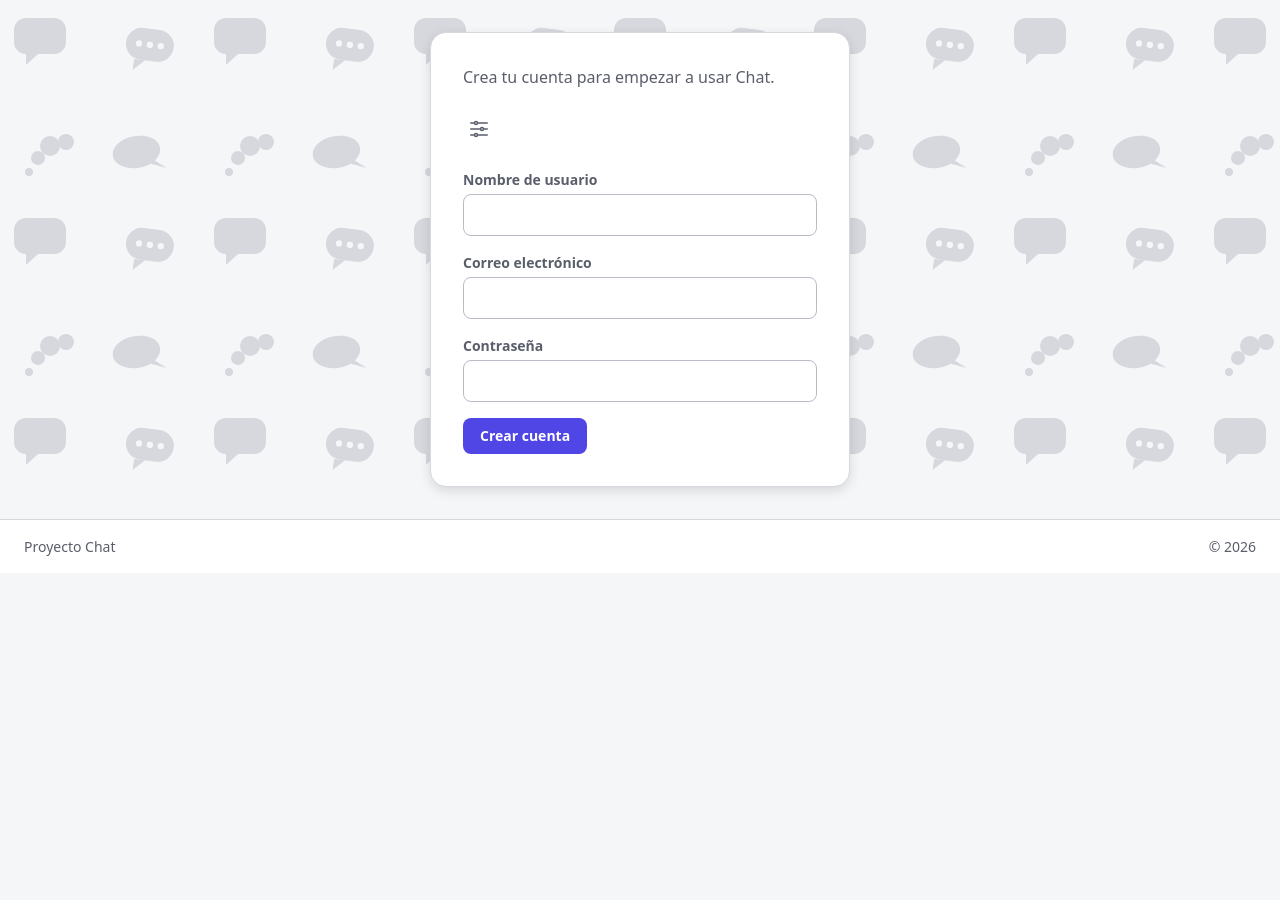
Test: RegistroPage › si el inicio de sesión automático falla, cae a la confirmación con enlace al login
Step 1. Type "mateo29" into the field labelled "Nombre de usuario" → (640, 215), box top-left (463, 194), bottom-right (817, 236)
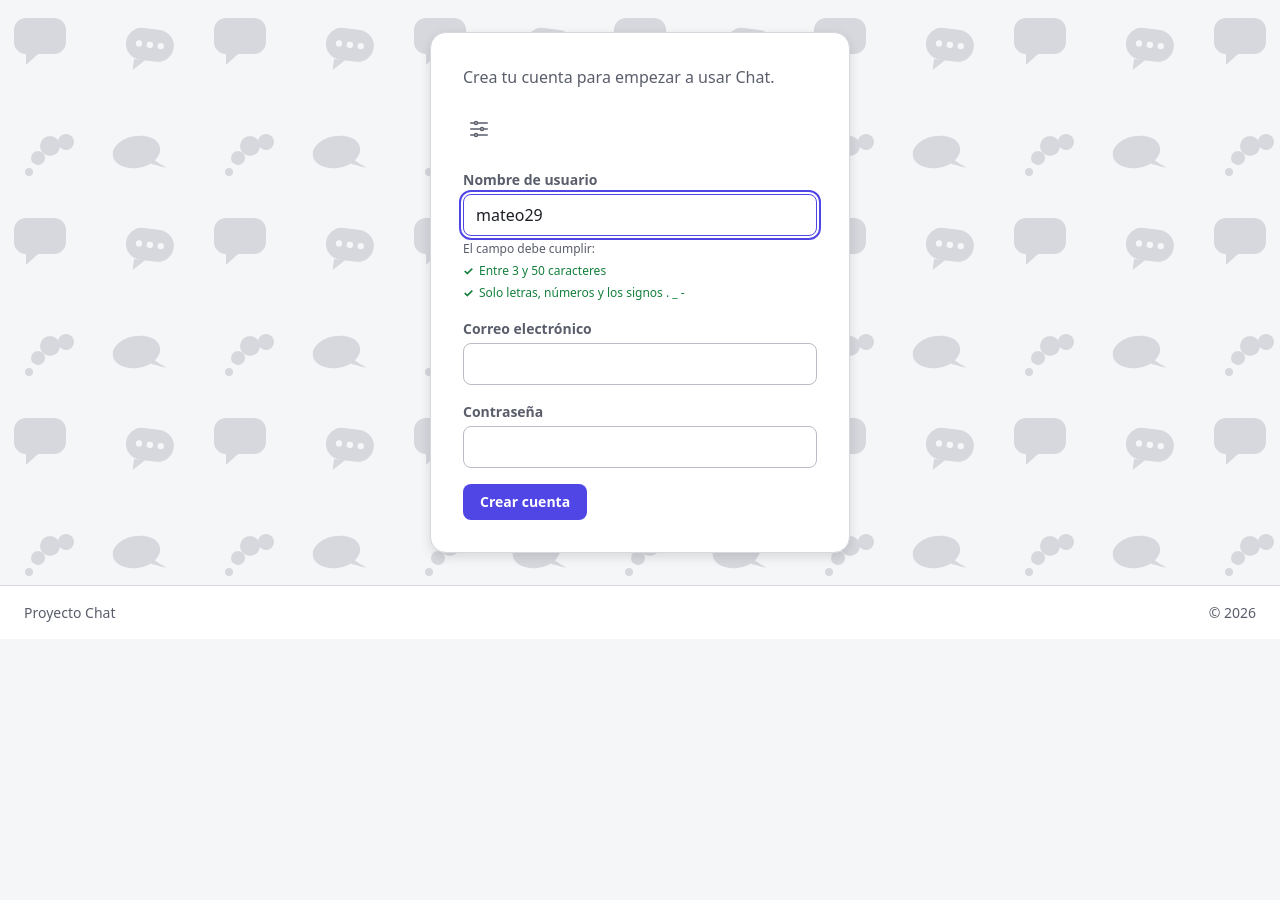
Step 2. Type "mateo@example.com" into the field labelled "Correo electrónico" → (640, 364), box top-left (463, 343), bottom-right (817, 385)
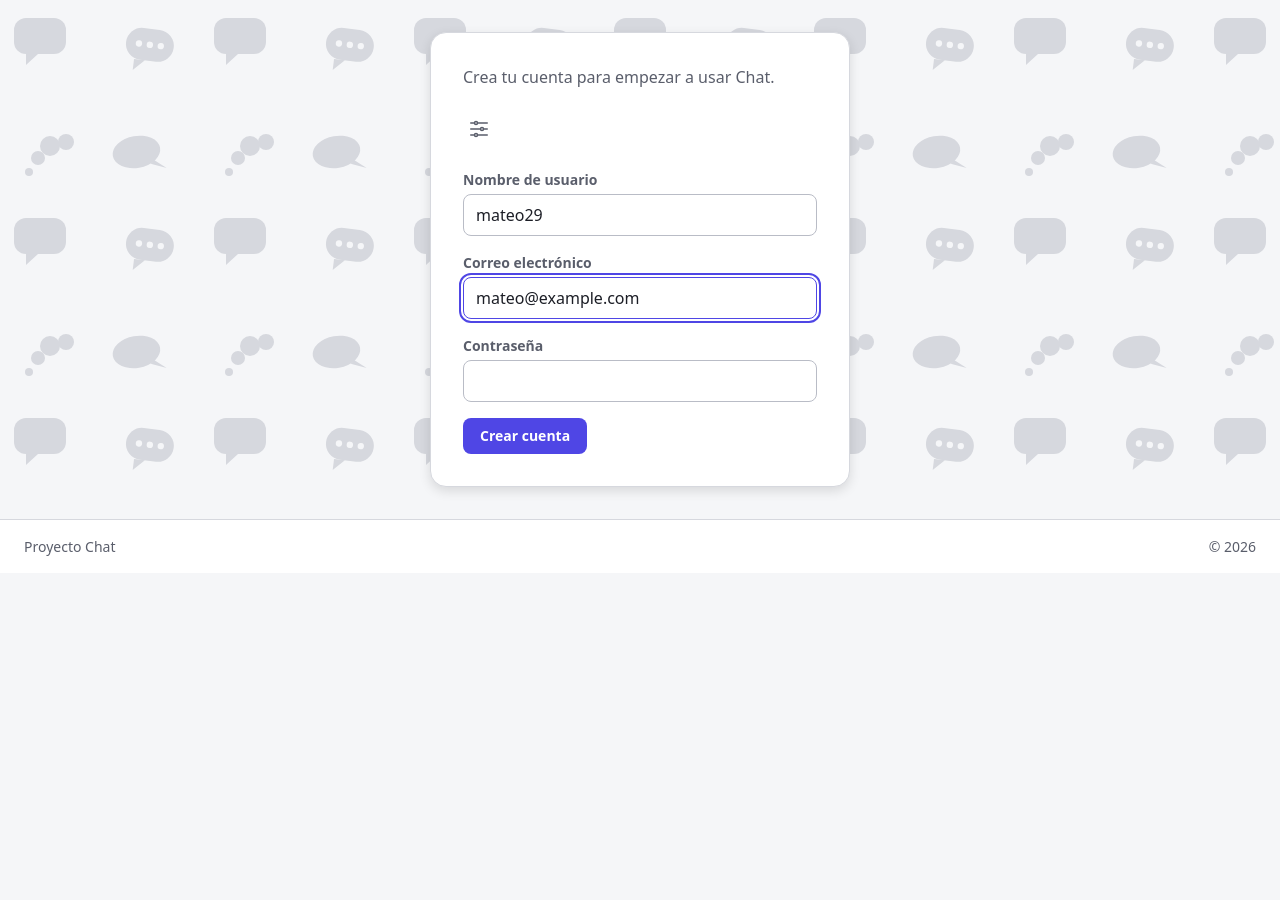
Step 3. Type "Passw0rd!" into the password field labelled "Contraseña" → (640, 381), box top-left (463, 360), bottom-right (817, 402)
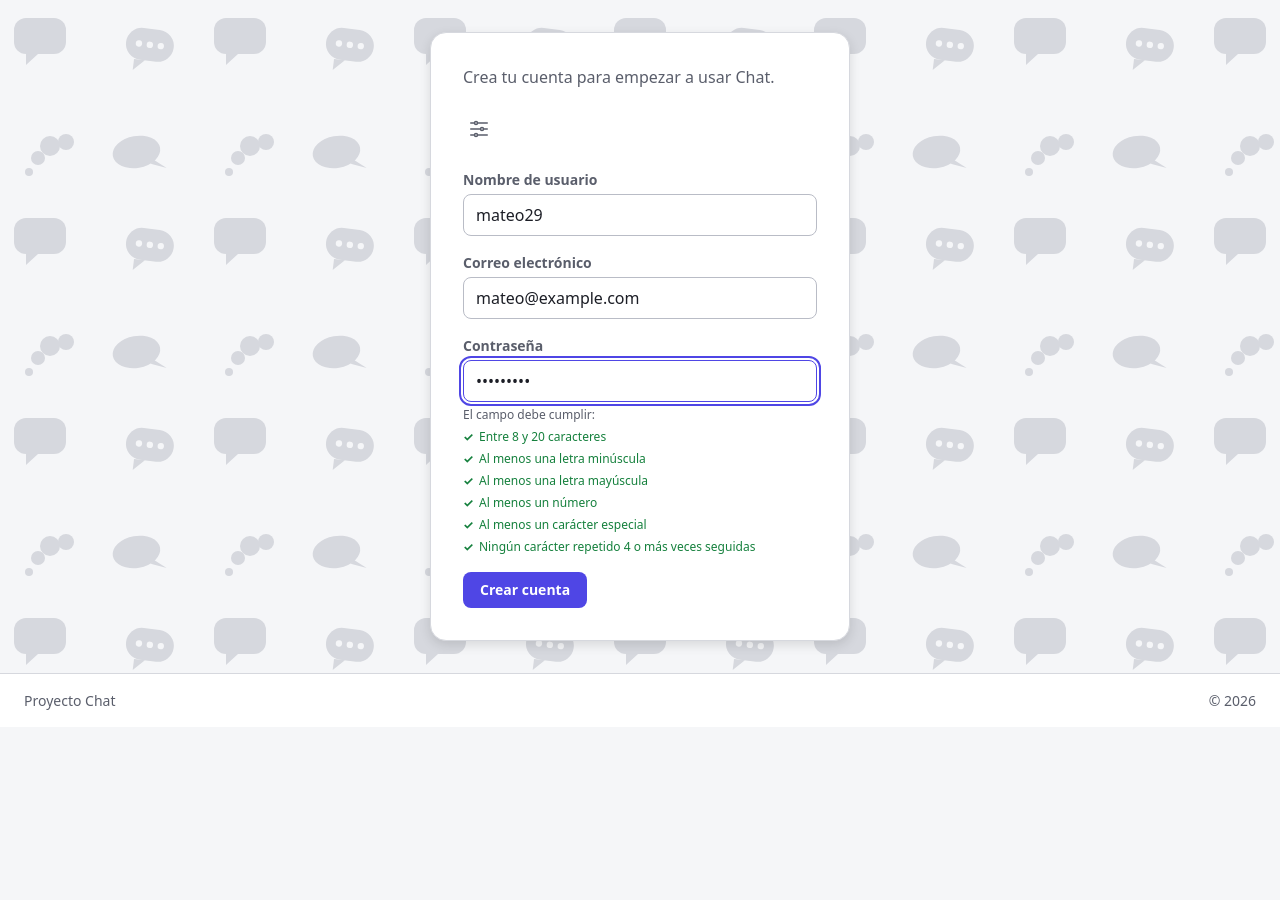
Step 4. Click the button "Crear cuenta" → (525, 590), box top-left (463, 572), bottom-right (587, 608)
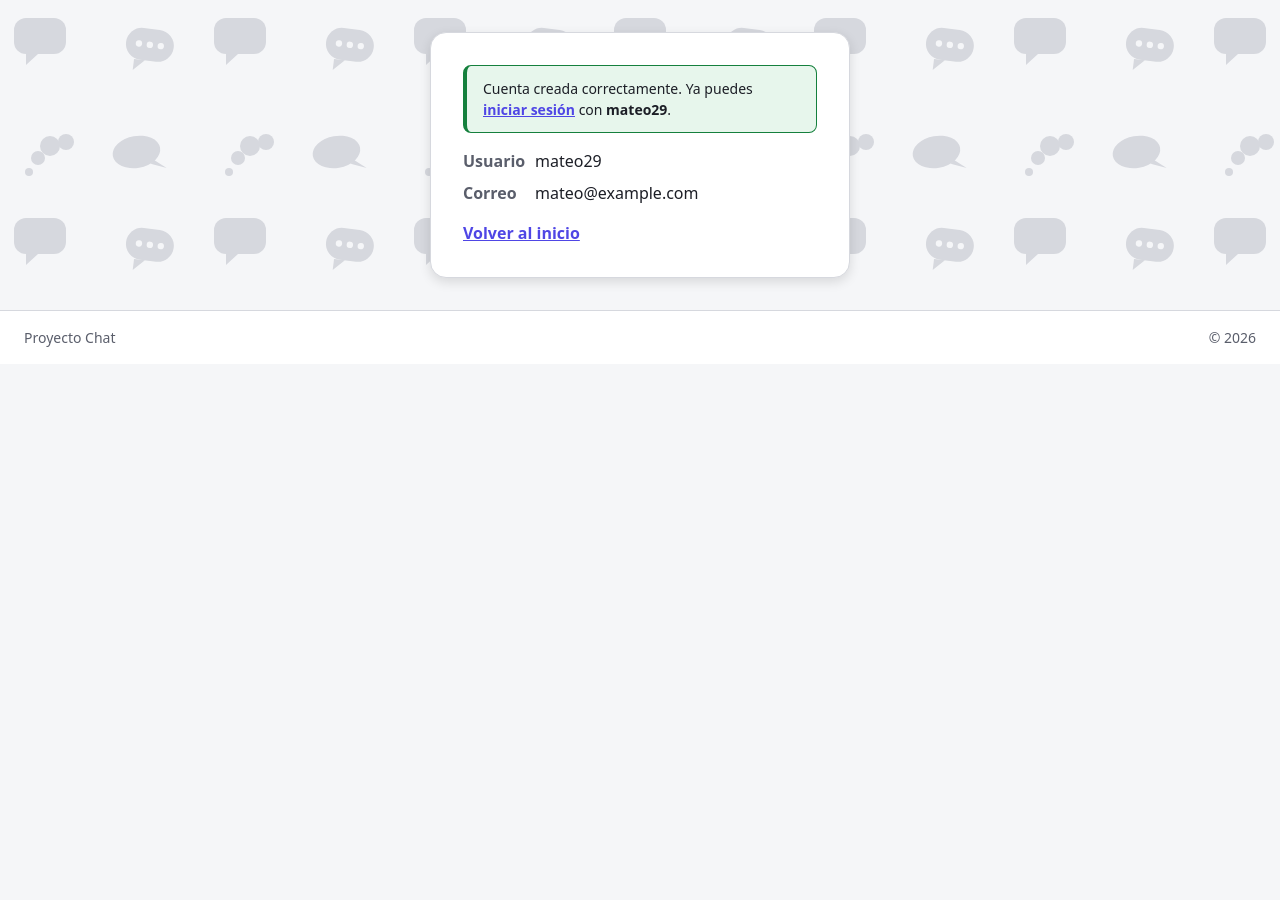
Result: the text "Cuenta creada correctamente. Ya puedes iniciar sesión con mateo29." is shown at top-left (463, 65), bottom-right (817, 133)
Result: the text "mateo@example.com" is shown at top-left (535, 181), bottom-right (698, 205)
Result: the label labelled "Contraseña" is gone
